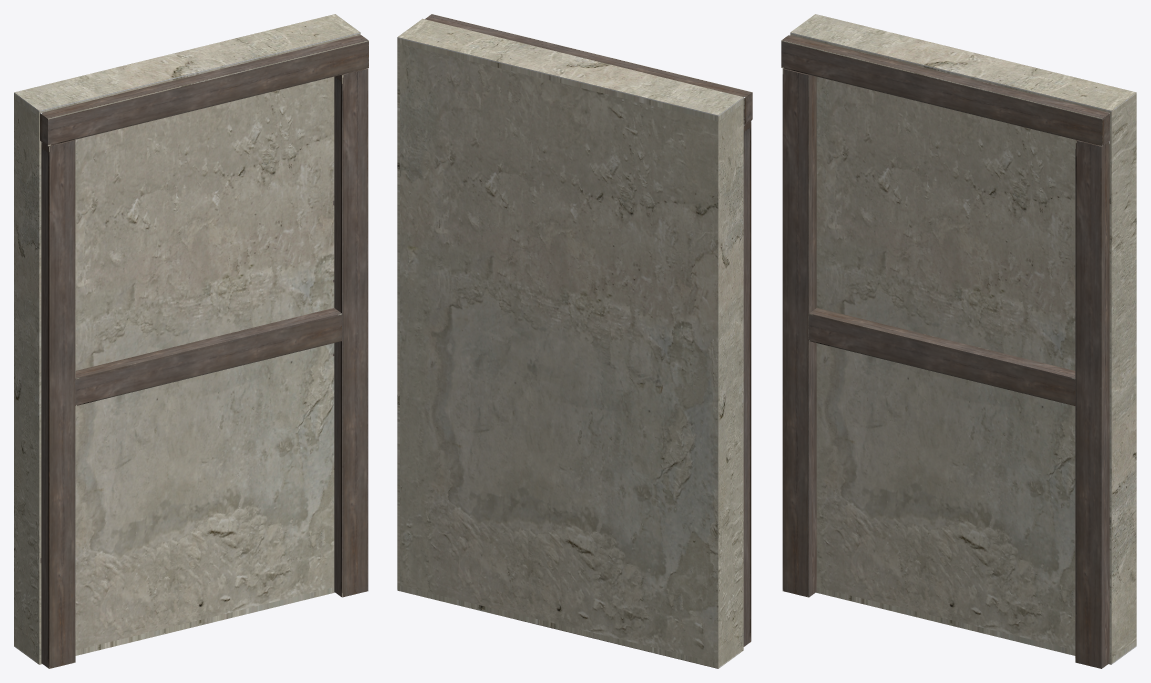
The model's file is pared_1.fbx.
The picture shows the model from 3 angles, left to right: view 1: azimuth 30°, elevation 25°; view 2: azimuth 150°, elevation 25°; view 3: azimuth 330°, elevation 25°; orthographic projection.
Visible parts, largest first — view 1: pared_1; view 2: pared_1; view 3: pared_1.
Boxes of the visible parts, x1=… form: pared_1: x1=14, y1=14, x2=368, y2=668; pared_1: x1=397, y1=14, x2=752, y2=668; pared_1: x1=781, y1=14, x2=1136, y2=668.
Size of the model in its own units: 300 by 494 by 55.
